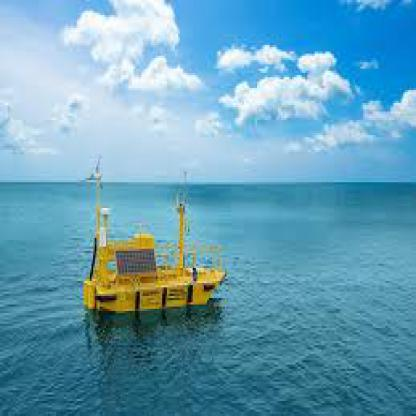buoy: (77, 157, 231, 328)
